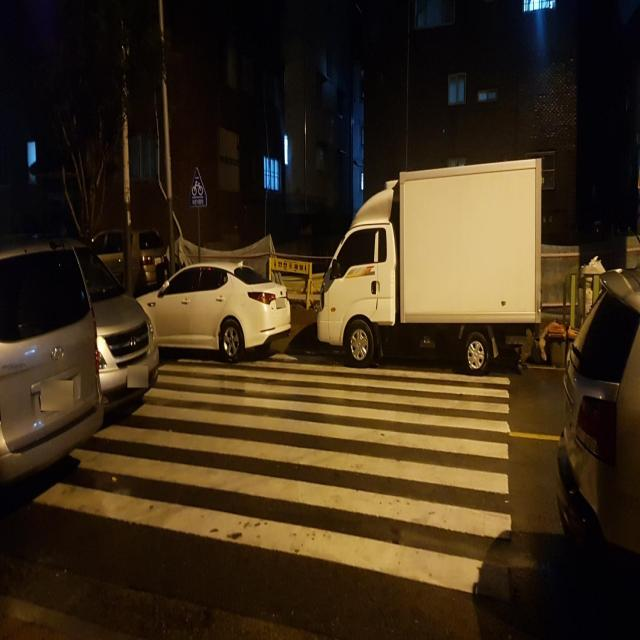횡단보도: (32, 357, 512, 598)
